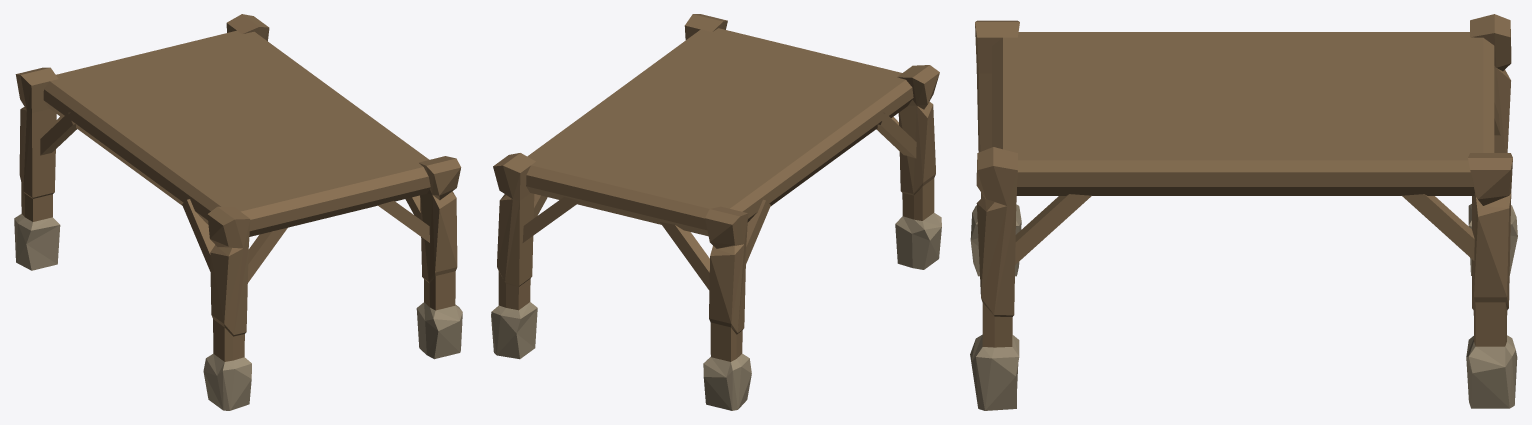
File: SM_Bld_House_Foundation_Beams_01.gltf
3 renders of one model, left to right at view 1: azimuth 30°, elevation 25°; view 2: azimuth 150°, elevation 25°; view 3: azimuth 270°, elevation 25°, orthographic. The views are drawn at different scales.
Visible parts, largest first — view 1: SM_Bld_House_Foundation_Beams_01; view 2: SM_Bld_House_Foundation_Beams_01; view 3: SM_Bld_House_Foundation_Beams_01.
Part boxes in pixels (x1,y1,x2,y2): SM_Bld_House_Foundation_Beams_01: (14, 14, 462, 410); SM_Bld_House_Foundation_Beams_01: (491, 14, 941, 410); SM_Bld_House_Foundation_Beams_01: (970, 14, 1517, 410).
Bounding box in the file's own units: 3.77 × 2.76 × 5.62.
Materials: 1 (1 with a texture image).
